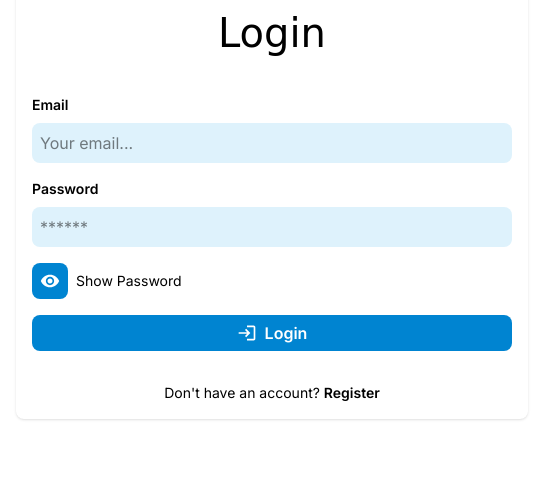
Test: Login page › shows an error message when user enters an invalid email
Type "test@" into the field labelled "Email".
click(272, 143); type("test@")  # box [32,123,512,163]
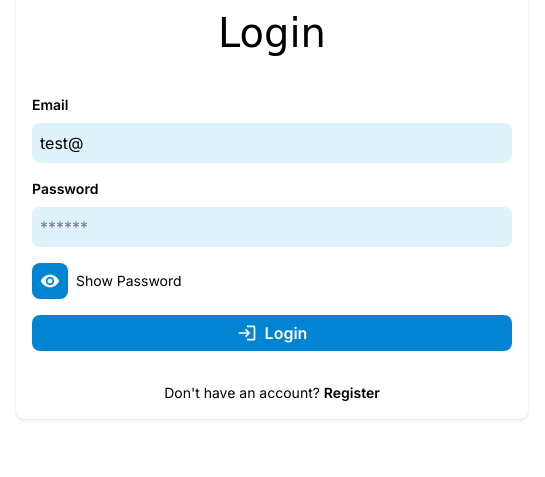
Click the button with test id "login-button".
click(272, 333)  # box [32,315,512,351]
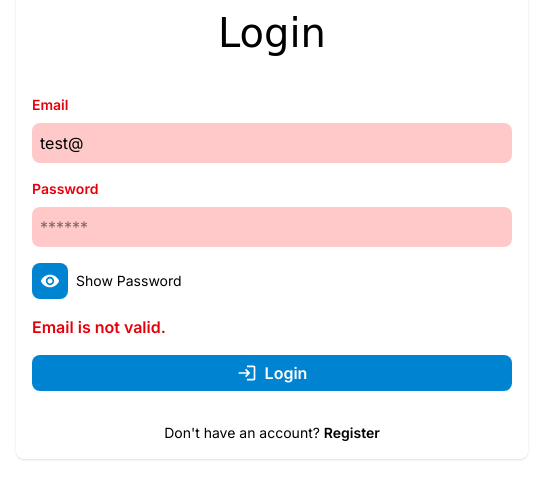
Expected: the text "Email is not valid." is shown, [32,317,166,337]
